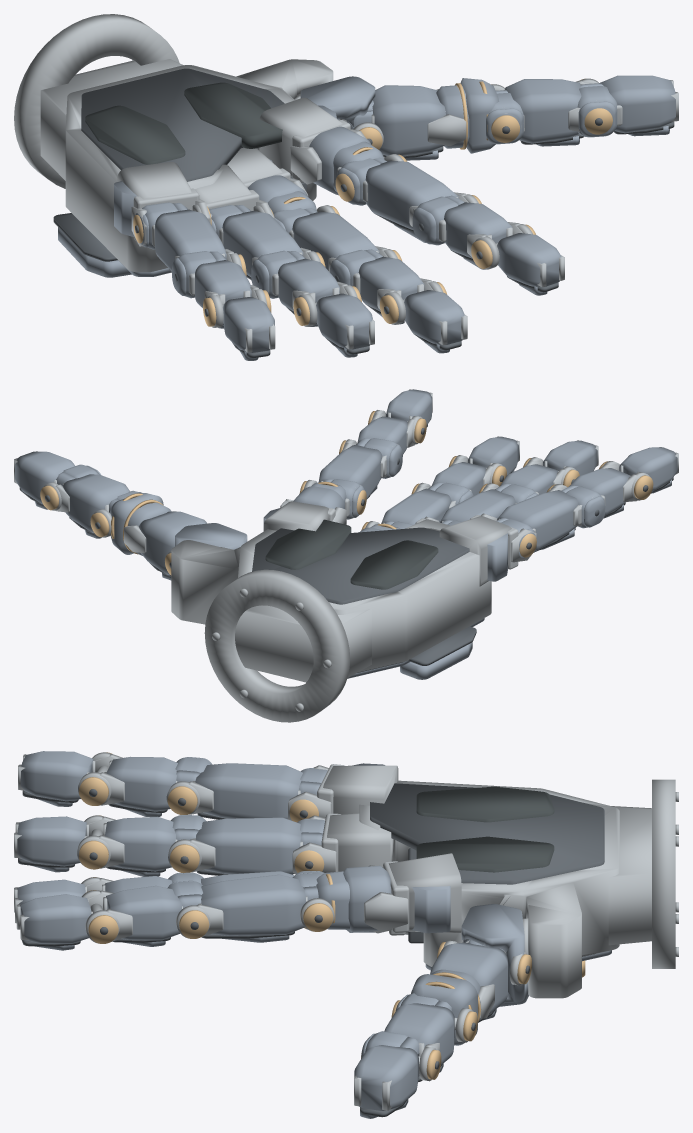
The model's file is helix15.glb.
3 views of the same model, one above another, from view 1: azimuth 30°, elevation 25°; view 2: azimuth 150°, elevation 25°; view 3: azimuth 270°, elevation 25° (orthographic). The views are drawn at different scales.
Visible parts, largest first — view 1: visual__central_palm__0, visual__central_palm__1, visual__central_palm__4, visual__thumb_metacarpal__0, visual__thumb_proximal__0, visual__index_proximal__0, visual__ring_proximal__0, visual__little_proximal__0, visual__middle_proximal__0, visual__thumb_distal__0, visual__thumb_roll_link__1, visual__index_distal__0 (+25 smaller); view 2: visual__central_palm__0, visual__central_palm__1, visual__central_palm__4, visual__little_proximal__0, visual__index_proximal__0, visual__thumb_proximal__0, visual__thumb_metacarpal__0, visual__central_palm__3, visual__middle_proximal__0, visual__ring_proximal__0, visual__thumb_distal__0, visual__little_distal__0 (+13 smaller); view 3: visual__central_palm__0, visual__central_palm__1, visual__central_palm__4, visual__index_proximal__0, visual__ring_proximal__0, visual__little_proximal__0, visual__thumb_distal__0, visual__thumb_proximal__0, visual__index_distal__0, visual__index_middle__0, visual__ring_distal__0, visual__ring_middle__0 (+32 smaller).
Part boxes in pixels (x1,y1,x2,y2): visual__central_palm__0: [14, 14, 342, 272]; visual__central_palm__1: [53, 68, 306, 261]; visual__central_palm__4: [85, 82, 282, 164]; visual__thumb_metacarpal__0: [372, 85, 469, 160]; visual__thumb_proximal__0: [505, 79, 617, 146]; visual__index_proximal__0: [365, 160, 464, 245]; visual__ring_proximal__0: [222, 211, 305, 298]; visual__little_proximal__0: [155, 209, 226, 298]; visual__middle_proximal__0: [292, 211, 383, 286]; visual__thumb_distal__0: [599, 75, 675, 136]; visual__thumb_roll_link__1: [460, 78, 523, 153]; visual__index_distal__0: [497, 233, 561, 295]; visual__central_palm__0: [171, 501, 511, 722]; visual__central_palm__1: [252, 527, 476, 672]; visual__central_palm__4: [265, 519, 438, 589]; visual__little_proximal__0: [497, 485, 605, 551]; visual__index_proximal__0: [318, 438, 402, 499]; visual__thumb_proximal__0: [56, 464, 129, 538]; visual__thumb_metacarpal__0: [128, 502, 207, 580]; visual__central_palm__3: [263, 508, 508, 679]; visual__middle_proximal__0: [381, 482, 473, 524]; visual__ring_proximal__0: [440, 483, 538, 522]; visual__thumb_distal__0: [15, 451, 75, 509]; visual__little_distal__0: [619, 447, 677, 493]; visual__central_palm__0: [323, 765, 678, 998]; visual__central_palm__1: [370, 783, 604, 956]; visual__central_palm__4: [416, 786, 554, 872]; visual__index_proximal__0: [167, 874, 306, 942]; visual__ring_proximal__0: [170, 815, 301, 874]; visual__little_proximal__0: [175, 757, 302, 819]; visual__thumb_distal__0: [354, 1045, 418, 1118]; visual__thumb_proximal__0: [361, 1003, 454, 1076]; visual__index_distal__0: [20, 894, 91, 950]; visual__index_middle__0: [106, 885, 181, 946]; visual__ring_distal__0: [17, 816, 86, 872]; visual__ring_middle__0: [105, 816, 175, 876].
Bounding box in the file's own units: 0.2134 × 0.056 × 0.1966.
